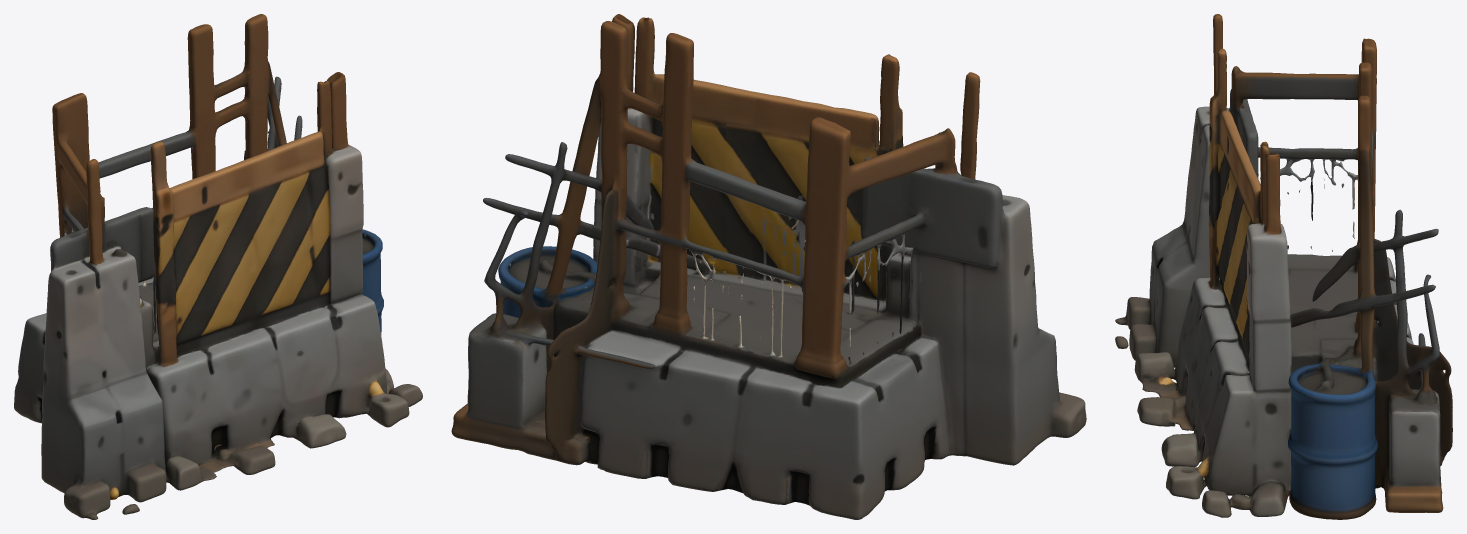
The model's file is SM_Prop_ConstructionBarricade_01.fbx.
3 renders of one model, left to right at view 1: azimuth 30°, elevation 25°; view 2: azimuth 150°, elevation 25°; view 3: azimuth 270°, elevation 25°, orthographic. The views are drawn at different scales.
Visible parts, largest first — view 1: SM_Prop_ConstructionBarricade_01; view 2: SM_Prop_ConstructionBarricade_01; view 3: SM_Prop_ConstructionBarricade_01.
Boxes of the visible parts, <box> form: SM_Prop_ConstructionBarricade_01: <box>14,14,422,519</box>; SM_Prop_ConstructionBarricade_01: <box>451,14,1086,519</box>; SM_Prop_ConstructionBarricade_01: <box>1115,14,1452,519</box>.
Bounding box in the file's own units: 0.999 × 0.8708 × 0.6983.
1 material, 1 textured.
